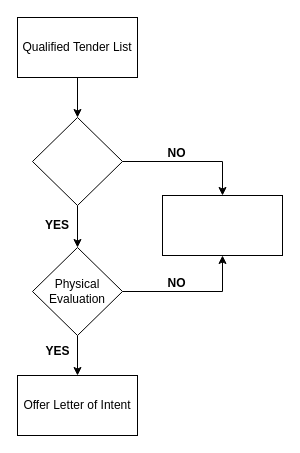
Image size: 300x453. Some labels were removed from this diagram. Each missing label, with the centre of its shape:
"Compliance Failure Notification" goes at (222,225).
"Desktop Evaluation" goes at (77,161).
